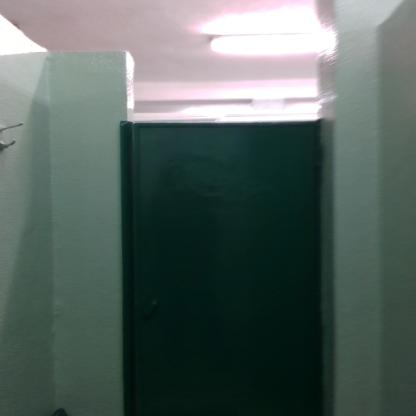closed: (109, 73, 349, 416)
